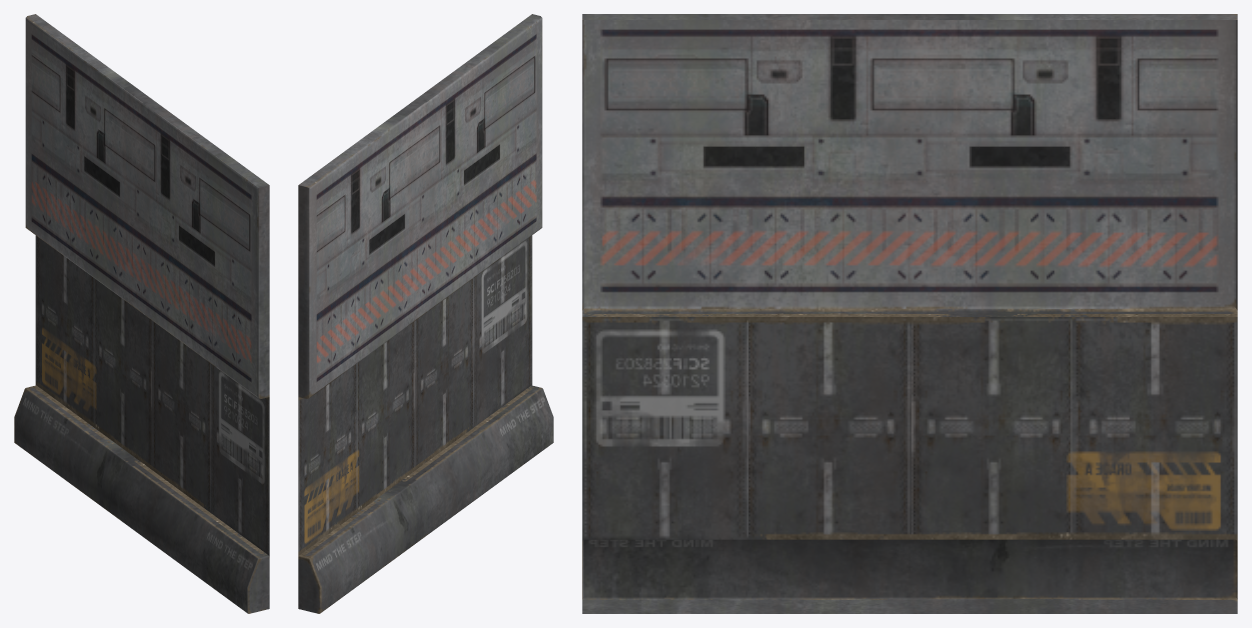
File: SM_Modular_Walls_LP_Four_Panel_Wall.fbx
3 views of the same model, side by side, from view 1: azimuth 30°, elevation 25°; view 2: azimuth 150°, elevation 25°; view 3: azimuth 270°, elevation 25° (orthographic). The views are drawn at different scales.
Visible parts, largest first — view 1: SM_Modular_Walls_LP_Four_Panel_Wall_LOD0; view 2: SM_Modular_Walls_LP_Four_Panel_Wall_LOD0; view 3: SM_Modular_Walls_LP_Four_Panel_Wall_LOD0.
Part boxes in pixels (x1,y1,x2,y2): SM_Modular_Walls_LP_Four_Panel_Wall_LOD0: [14, 14, 269, 613]; SM_Modular_Walls_LP_Four_Panel_Wall_LOD0: [298, 14, 553, 613]; SM_Modular_Walls_LP_Four_Panel_Wall_LOD0: [582, 14, 1237, 613].
Size of the model in its own units: 13.01 by 240 by 240.
Materials: 1 (1 with a texture image).
